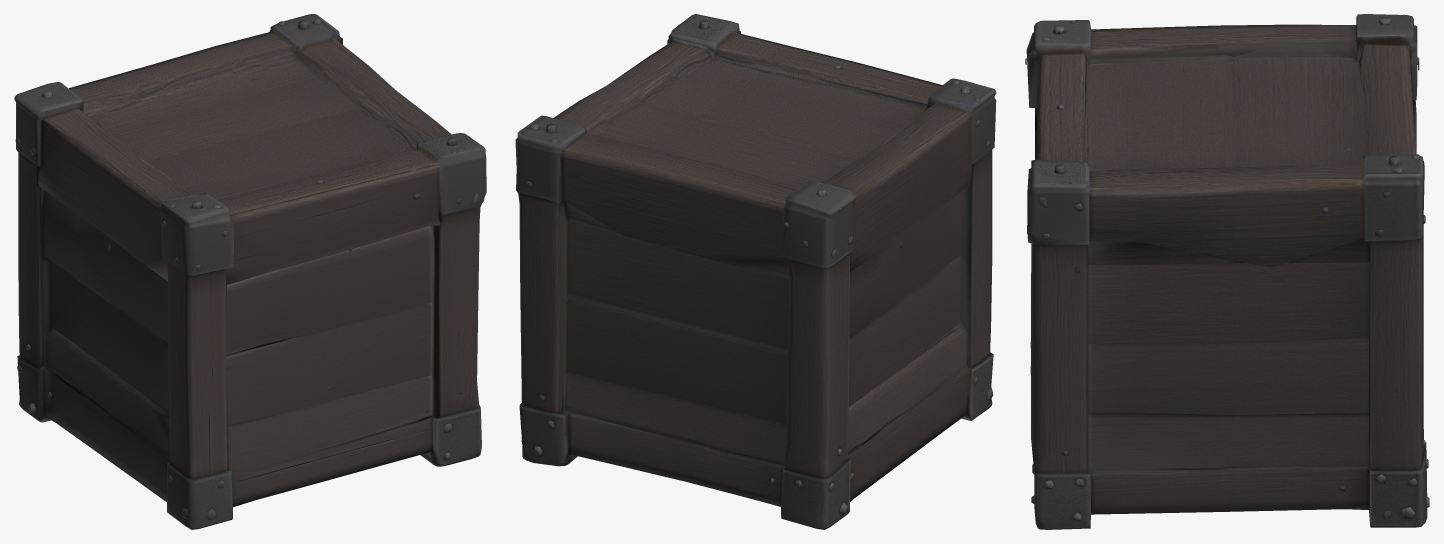
Rendered from cassa.fbx.
3 views of the same model, side by side, from view 1: azimuth 30°, elevation 25°; view 2: azimuth 150°, elevation 25°; view 3: azimuth 270°, elevation 25° (orthographic). The views are drawn at different scales.
Parts seen in each view (by area): view 1: tripo_node_0abf1a64; view 2: tripo_node_0abf1a64; view 3: tripo_node_0abf1a64.
Part boxes in pixels (left/top/right/bottom): tripo_node_0abf1a64: left=14, top=14, right=486, bottom=529; tripo_node_0abf1a64: left=515, top=14, right=996, bottom=529; tripo_node_0abf1a64: left=1025, top=14, right=1429, bottom=529.
Bounding box in the file's own units: 0.9946 × 0.9995 × 0.9976.
1 material, 1 textured.
